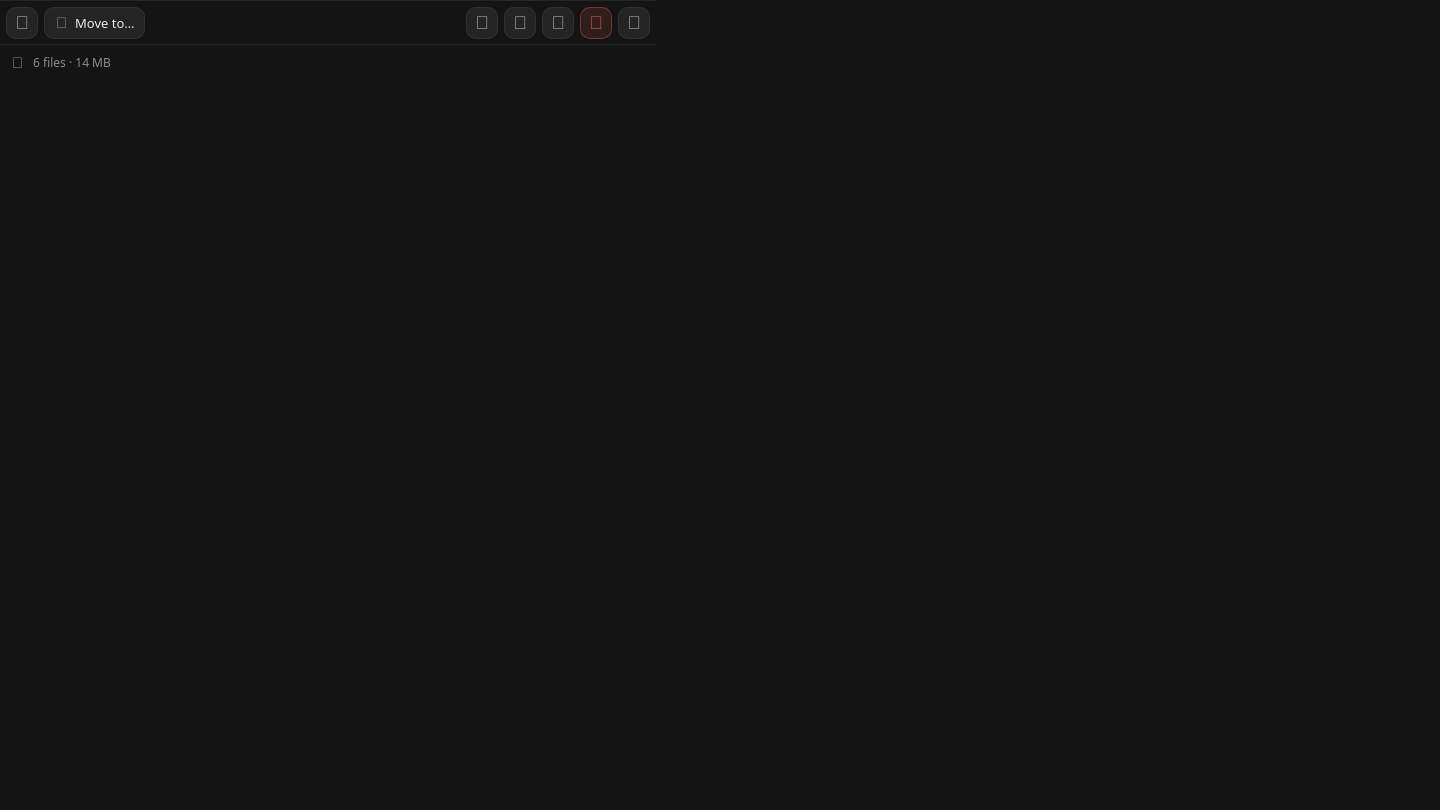
Scenario: a long sorting source's name is cut before Sorting Box is, and nothing spills out of a row
Click the button "Move to…". click: click(94, 22)
box: x1=44 y1=6 x2=145 y2=38
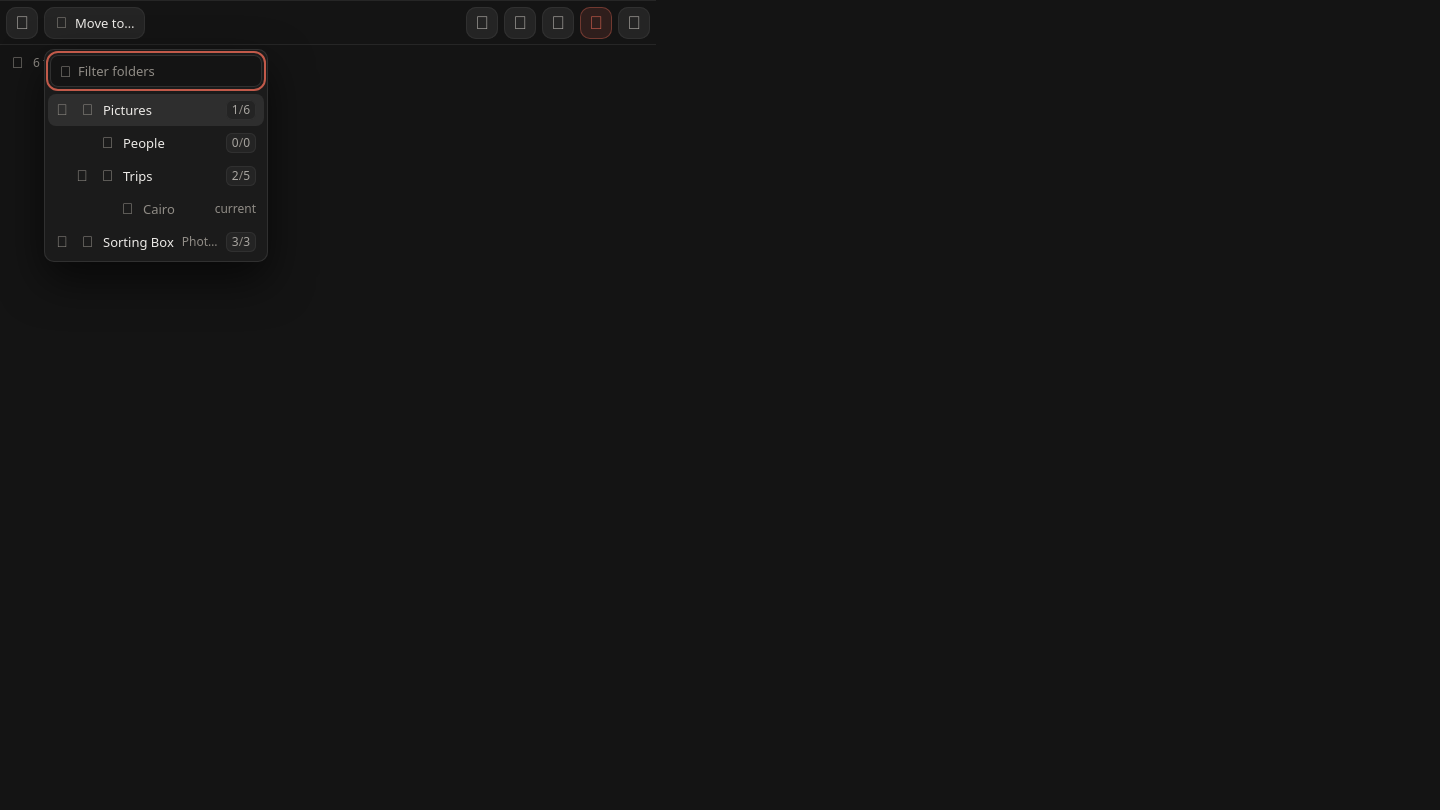
Check: the option "Sorting Box" is shown, box x1=48 y1=226 x2=264 y2=258
Type "day" into the dropdown. click: (156, 70)
box: x1=50 y1=54 x2=262 y2=86
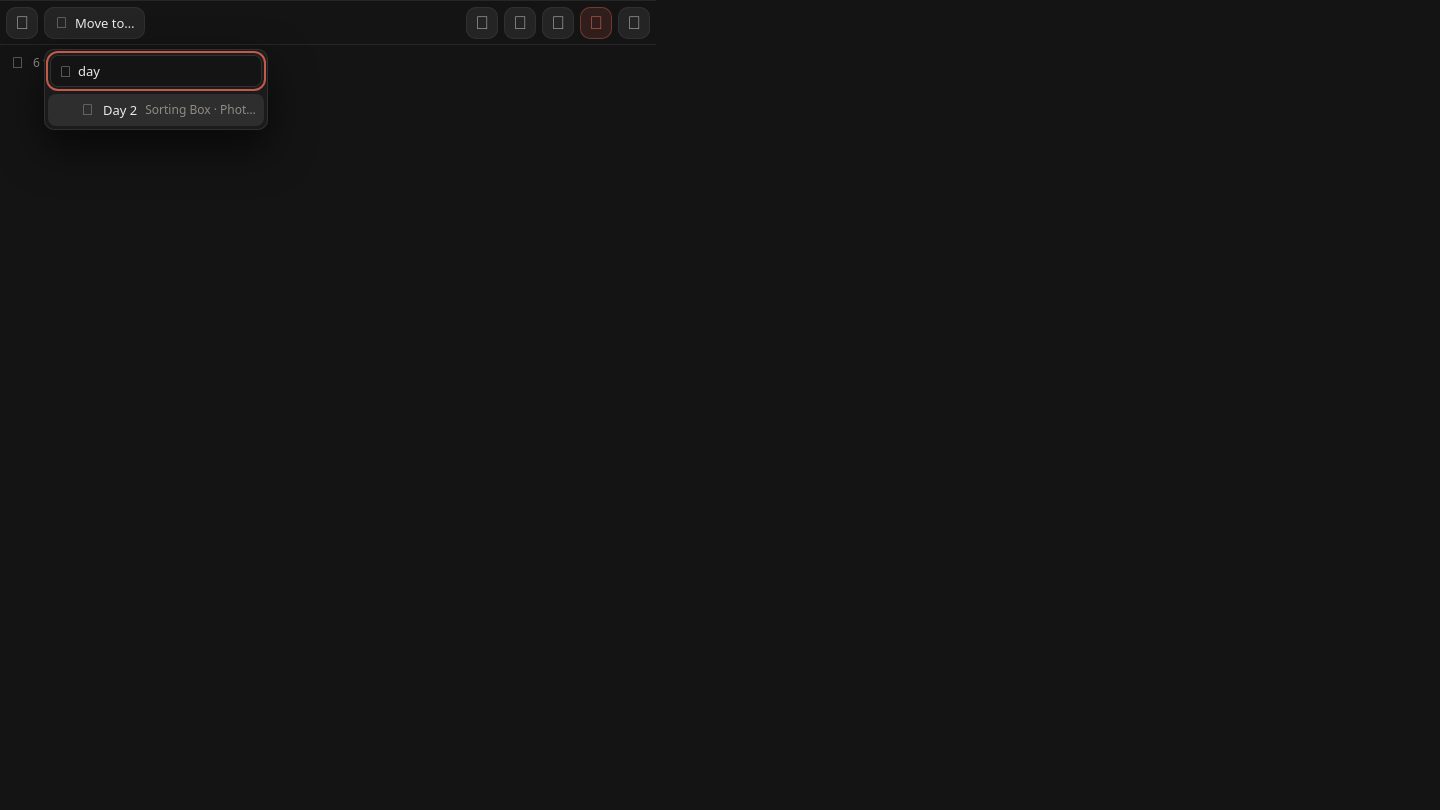
Check: the option "Day 2" is shown, box x1=48 y1=94 x2=264 y2=126
